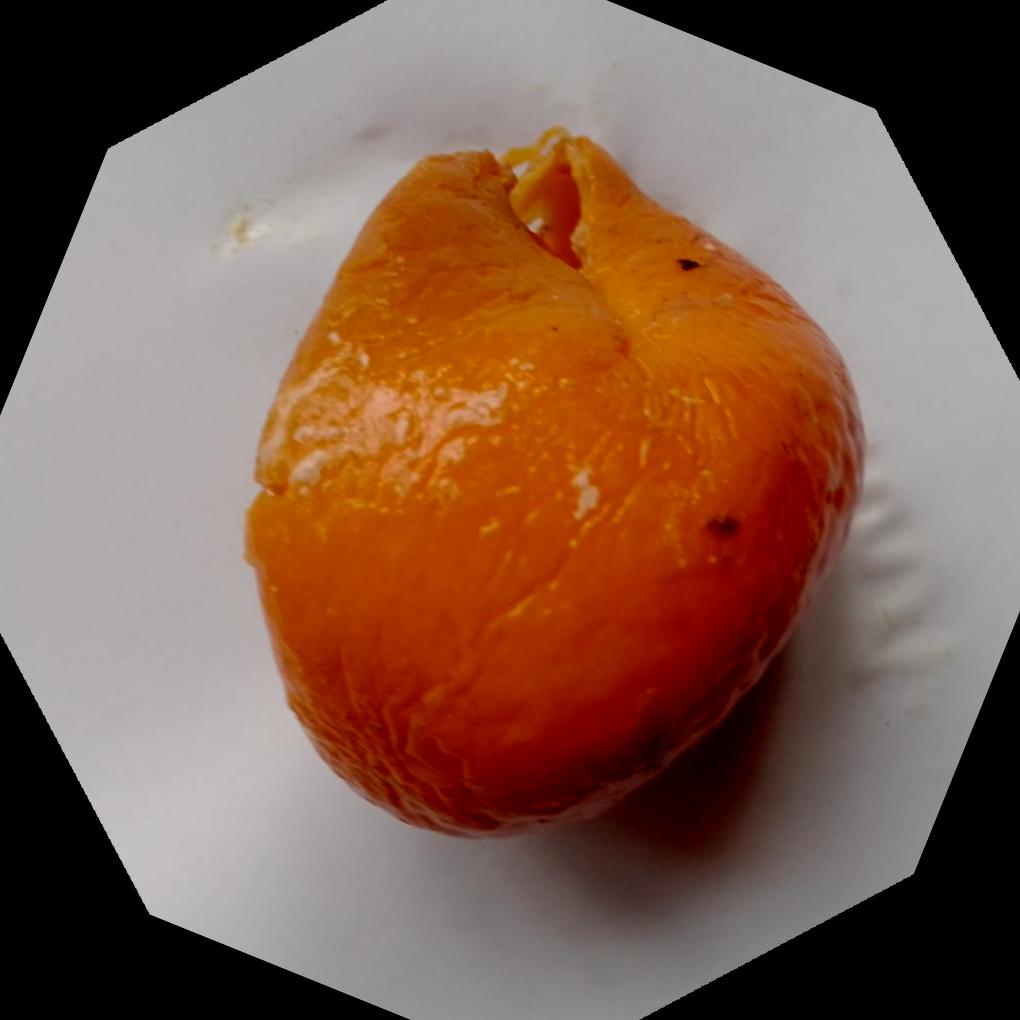FreshOrange: (242, 121, 866, 838)
